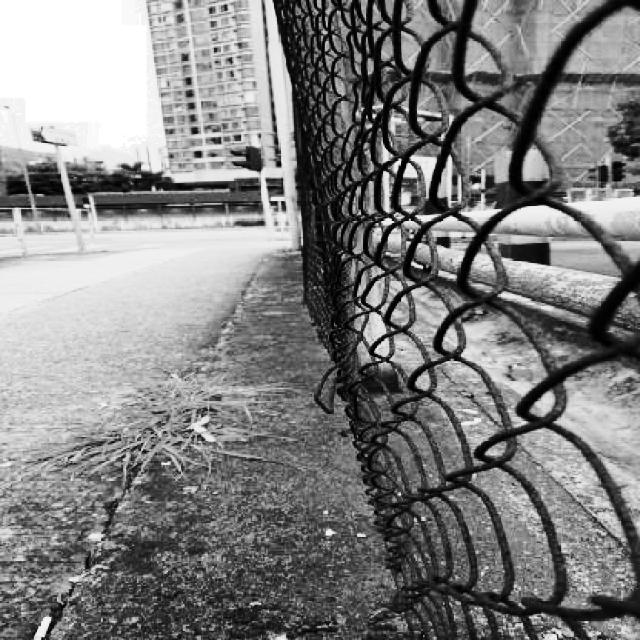fences: (326, 11, 640, 580)
